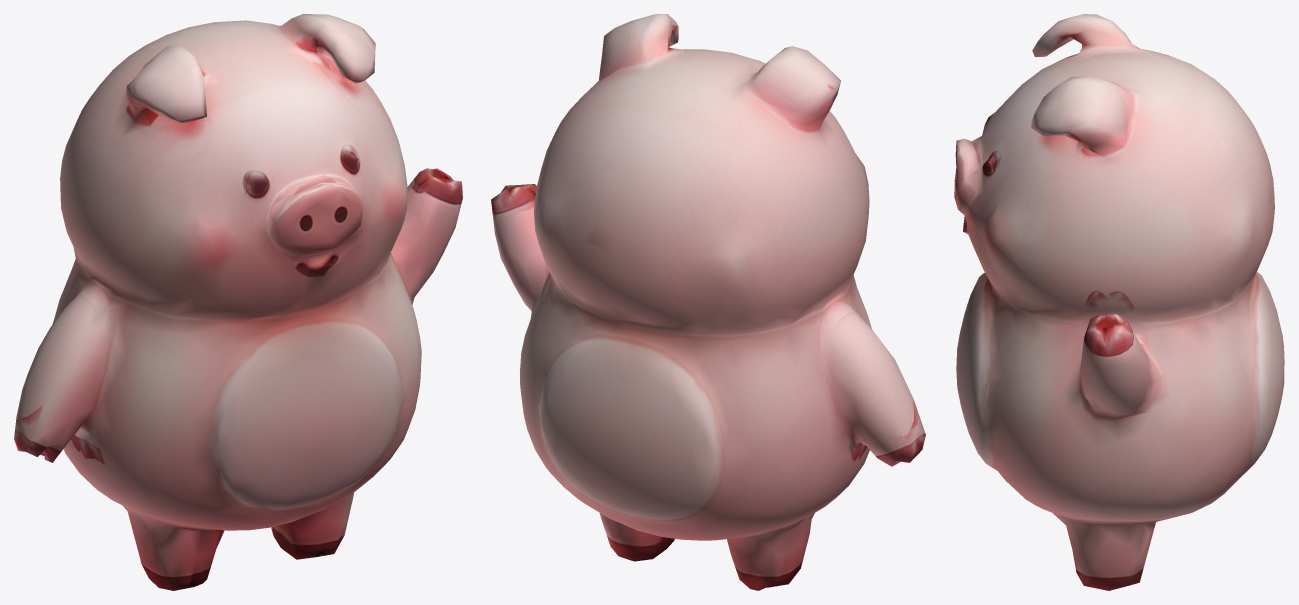
The model's file is pig.glb.
The picture shows the model from 3 angles, left to right: view 1: azimuth 30°, elevation 25°; view 2: azimuth 150°, elevation 25°; view 3: azimuth 270°, elevation 25°; orthographic projection. The views are drawn at different scales.
Parts seen in each view (by area): view 1: material_0; view 2: material_0; view 3: material_0.
Boxes of the visible parts, bbox=[...] form: material_0: bbox=[14, 14, 462, 590]; material_0: bbox=[491, 14, 925, 590]; material_0: bbox=[954, 14, 1284, 590].
Size of the model in its own units: 0.8392 by 0.994 by 0.5887.
Materials: 1 (1 with a texture image).
